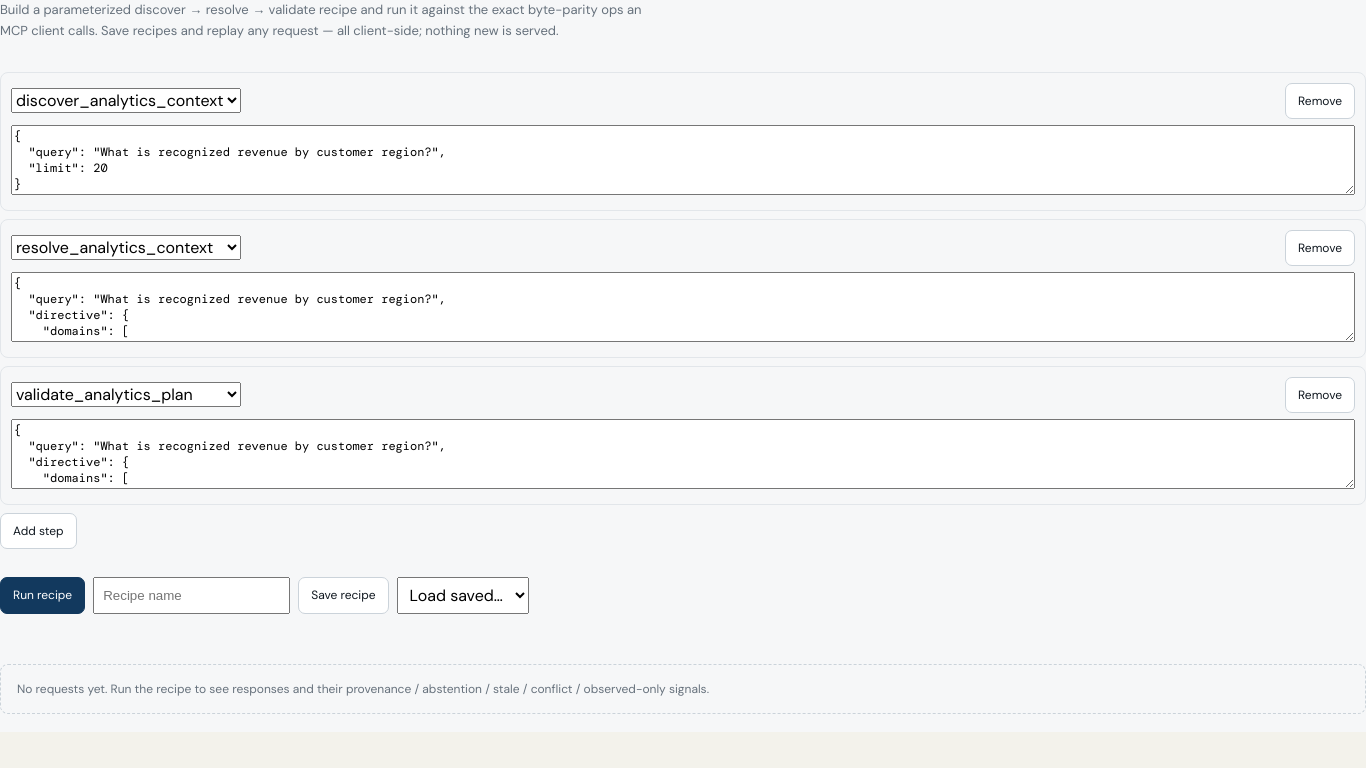
ApiConsole runs a recipe and replays a request client-side › runs the three ops over the /v0 byte-parity routes and shows their signals
This screenshot has width=1366, height=768.
Click the button "Run recipe" at (43, 595), box 0,577 -> 85,614
(page scrolled)
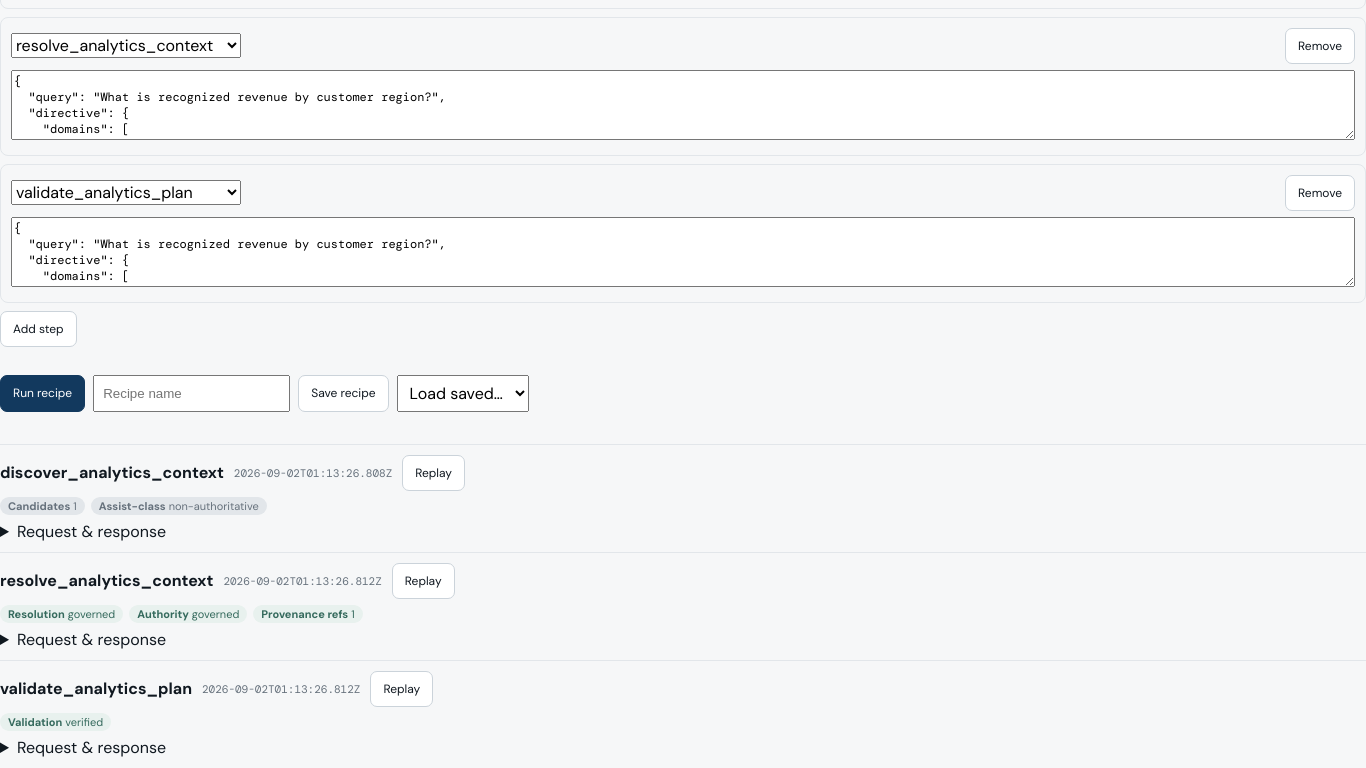
Expected: the text "Provenance refs" is shown, 261,607 -> 348,621
Expected: the text "governed" is shown, 68,607 -> 115,621
Expected: the text "verified" is shown, 65,715 -> 103,729
